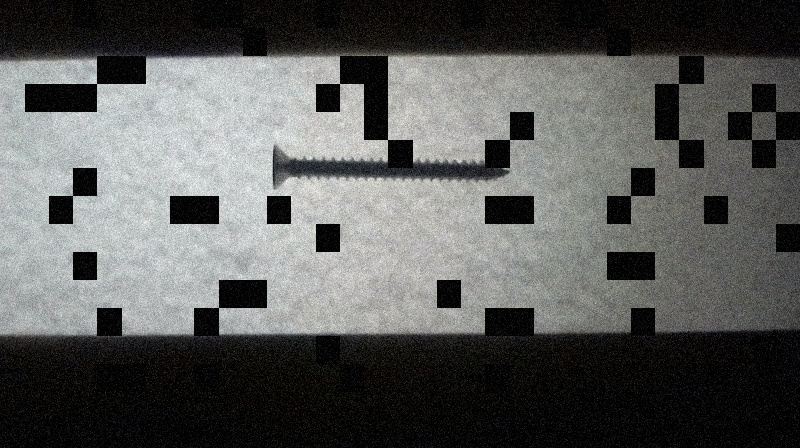S002: (269, 140, 512, 191)
